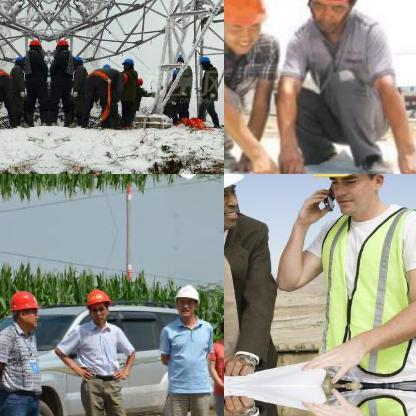Helmet: (308, 174, 400, 220), (224, 0, 271, 55), (299, 0, 364, 34), (7, 287, 41, 327), (172, 280, 200, 318), (84, 285, 110, 321), (171, 174, 203, 182), (53, 36, 67, 54), (27, 36, 41, 54), (196, 54, 209, 72), (217, 301, 223, 338), (119, 56, 132, 70), (69, 52, 81, 66), (13, 52, 25, 66), (83, 174, 112, 177)
